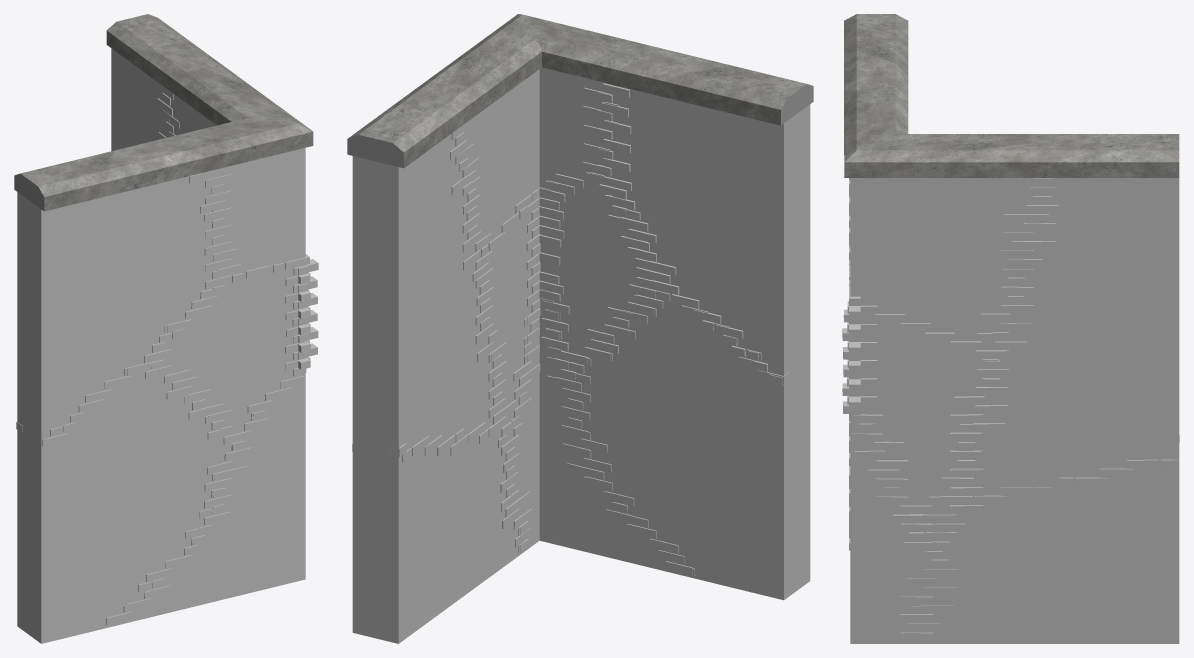
The model's file is Wall_Corner_Seg_Shattered.fbx.
3 renders of one model, left to right at view 1: azimuth 30°, elevation 25°; view 2: azimuth 150°, elevation 25°; view 3: azimuth 270°, elevation 25°, orthographic. The views are drawn at different scales.
Parts seen in each view (by area): view 1: Fragment_07, Fragment_06, Fragment_05, Fragment_04, Fragment_08, Fragment_01, Fragment_03; view 2: Fragment_07, Fragment_06, Fragment_01, Fragment_02, Fragment_05, Fragment_08, Fragment_04, Fragment_03; view 3: Fragment_01, Fragment_02, Fragment_05, Fragment_03, Fragment_04, Fragment_07, Fragment_08.
Boxes of the visible parts, x1,y1,x2,y2 form: Fragment_07: (14,132,237,447); Fragment_06: (16,356,248,643); Fragment_05: (156,56,313,276); Fragment_04: (119,369,306,624); Fragment_08: (147,254,318,441); Fragment_01: (106,14,217,151); Fragment_03: (297,266,310,369); Fragment_07: (597,39,813,385); Fragment_06: (555,287,810,600); Fragment_01: (347,88,505,462); Fragment_02: (352,416,528,643); Fragment_05: (415,14,623,257); Fragment_08: (539,172,663,380); Fragment_04: (505,270,695,576); Fragment_03: (472,188,540,448); Fragment_01: (941,134,1179,513); Fragment_02: (900,435,1179,643); Fragment_05: (844,101,1067,350); Fragment_03: (842,301,1005,559); Fragment_04: (849,414,949,643); Fragment_07: (844,14,908,244); Fragment_08: (849,260,860,436).
Bounding box in the file's own units: 1.93 × 3.02 × 1.88.
